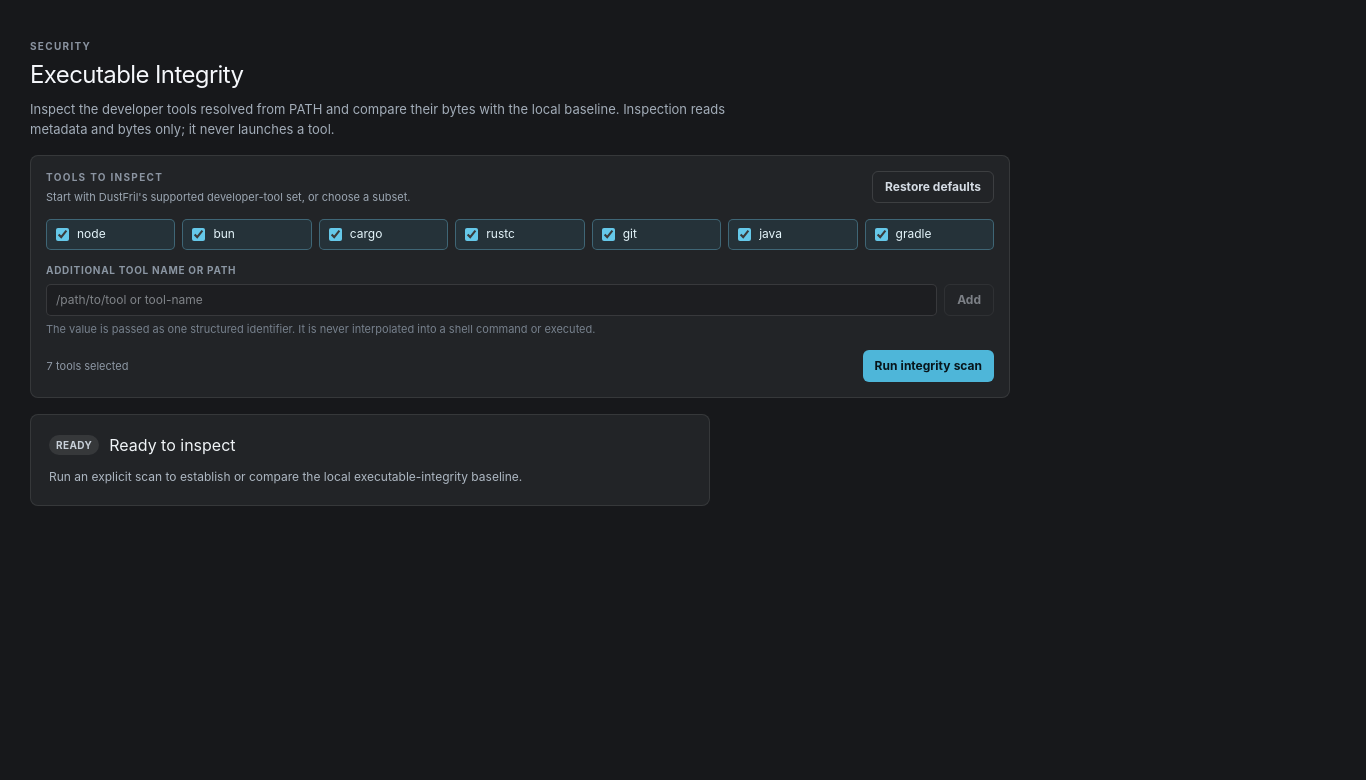
Test: ExecutableIntegrityView › runs an explicit scan and renders structured integrity and signature evidence
Expected: the heading "Ready to inspect" is shown, [109,433,236,457]
What coordinates should you click on to do the following:
click the button "Run integrity scan"
I would click on:
 (928, 366)
Its box is [863,350,994,382].
(page scrolled)
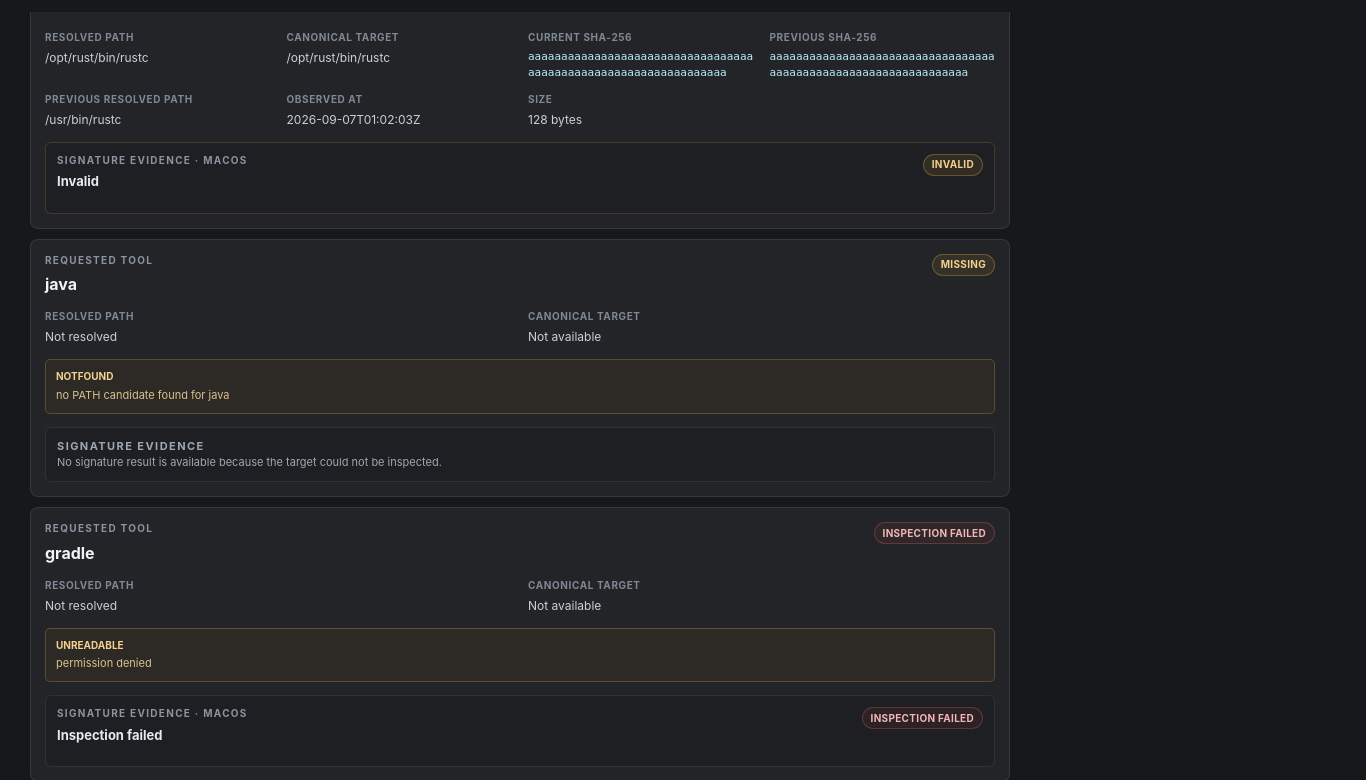
Expected: the text "Missing" is shown, [932,254,995,276]
Expected: the text "Inspection failed" is shown 3 times, [874,522,995,544]; [57,727,162,743]; [862,707,983,729]
Expected: the text "no PATH candidate found for java" is shown, [56,388,230,402]
